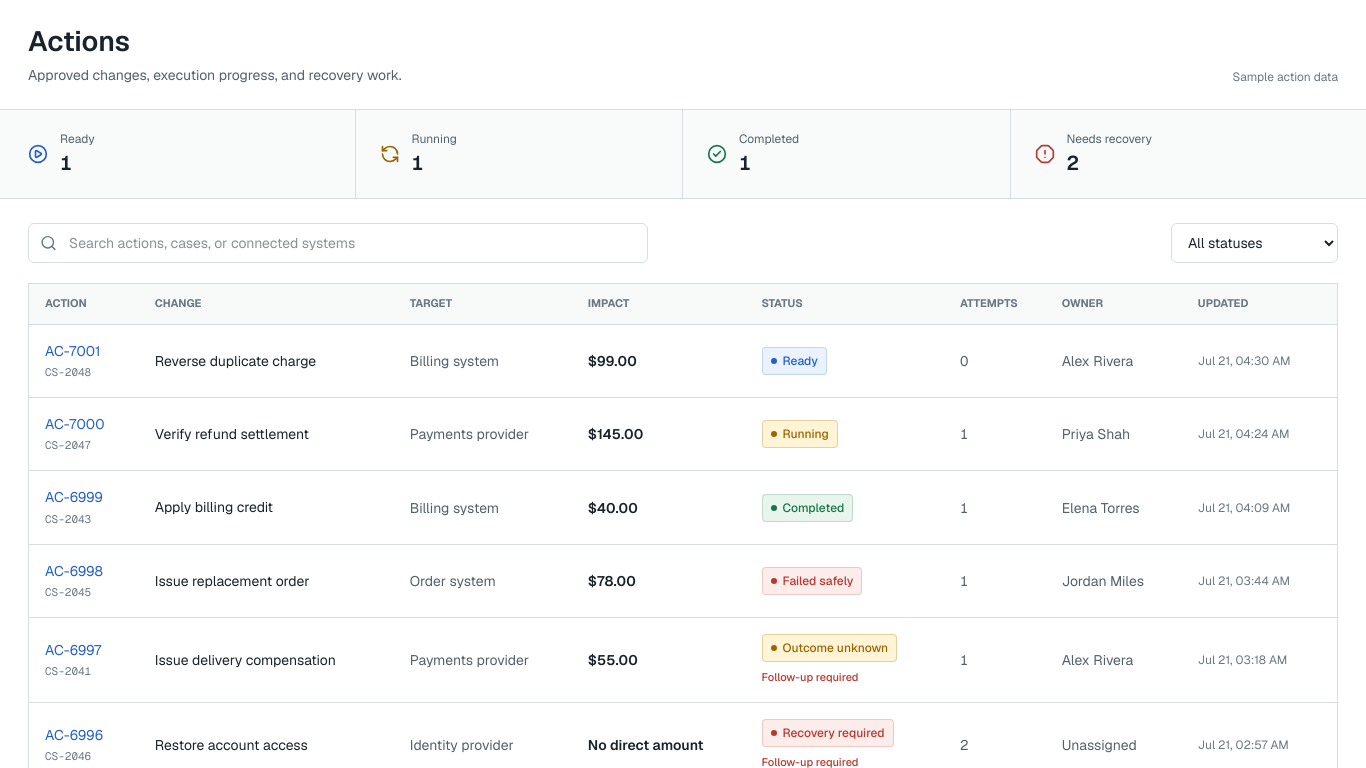
it: ActionQueue › offers a reset only when filters hide existing actions
In the field labelled "Search actions": (338, 243) [28,223,648,263], type "does-not-exist"
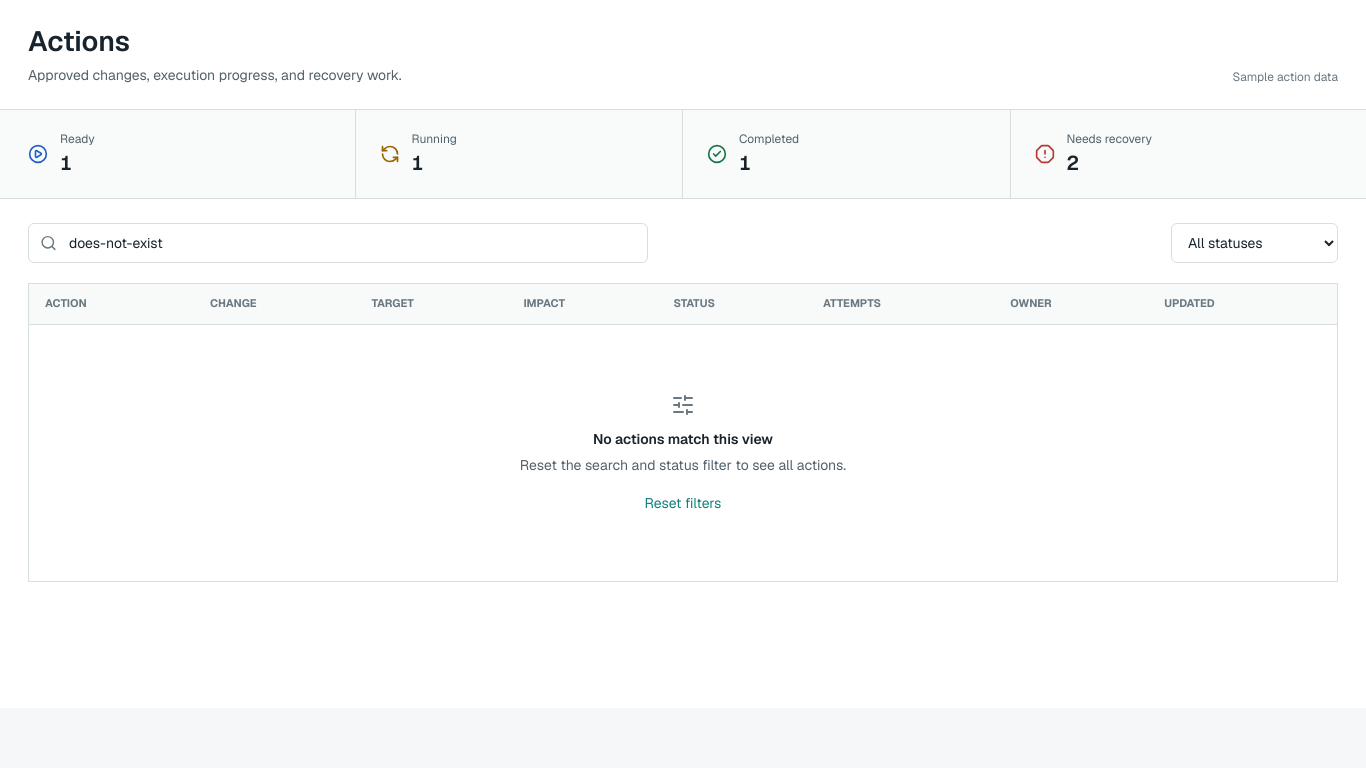
Now the text "No actions match this view" is shown, box [593,430,773,448]
Now the button "Reset filters" is shown, box [645,493,721,513]
